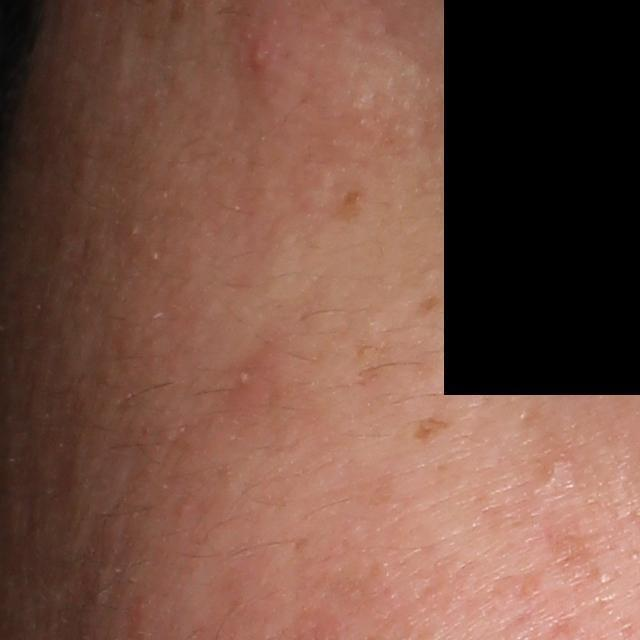melasma: (410, 414, 461, 449), (336, 183, 375, 223), (406, 289, 442, 318)
